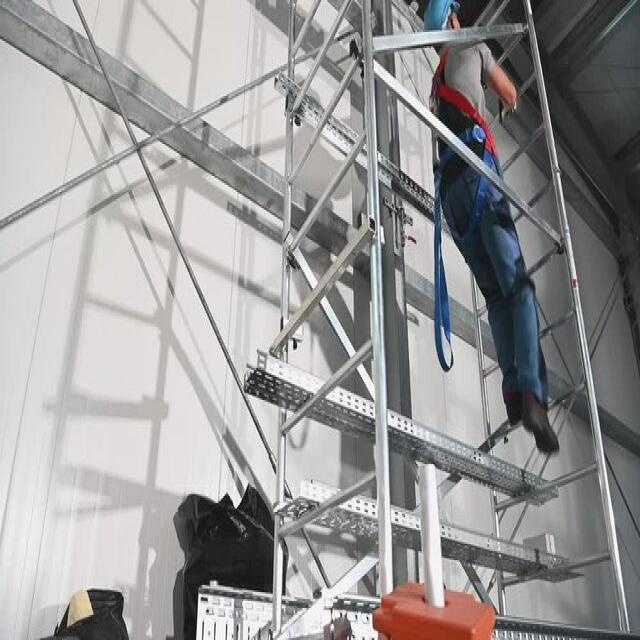Arnes_seguridad: (429, 34, 505, 252)
